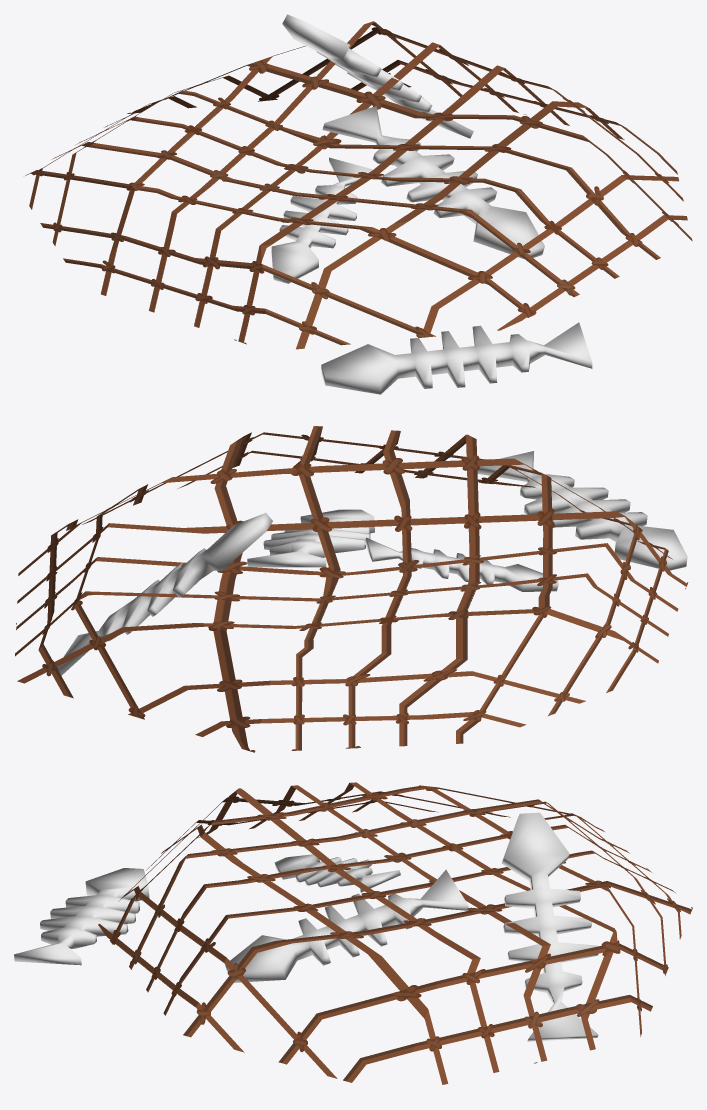
File: net_deadfish.fbx
The picture shows the model from 3 angles, top to bottom: view 1: azimuth 30°, elevation 25°; view 2: azimuth 150°, elevation 25°; view 3: azimuth 270°, elevation 25°; orthographic projection. The views are drawn at different scales.
Visible parts, largest first — view 1: Cube, Cube.004, Cube.001, Cube.002, Cube.003; view 2: Cube, Cube.004, Cube.003, Cube.001, Cube.002; view 3: Cube, Cube.003, Cube.001, Cube.004, Cube.002.
Part boxes in pixels (x1=…): Cube: x1=25, y1=21, x2=692, y2=349; Cube.004: x1=321, y1=322, x2=592, y2=394; Cube.001: x1=322, y1=106, x2=544, y2=258; Cube.002: x1=271, y1=157, x2=373, y2=283; Cube.003: x1=282, y1=14, x2=473, y2=138; Cube: x1=15, y1=426, x2=688, y2=752; Cube.004: x1=477, y1=451, x2=687, y2=570; Cube.003: x1=57, y1=513, x2=272, y2=675; Cube.001: x1=247, y1=509, x2=374, y2=567; Cube.002: x1=365, y1=537, x2=558, y2=591; Cube: x1=98, y1=782, x2=692, y2=1084; Cube.003: x1=501, y1=812, x2=598, y2=1041; Cube.001: x1=225, y1=869, x2=469, y2=982; Cube.004: x1=14, y1=868, x2=149, y2=965; Cube.002: x1=274, y1=854, x2=400, y2=892.
Bounding box in the file's own units: 191 × 50.62 × 203.
